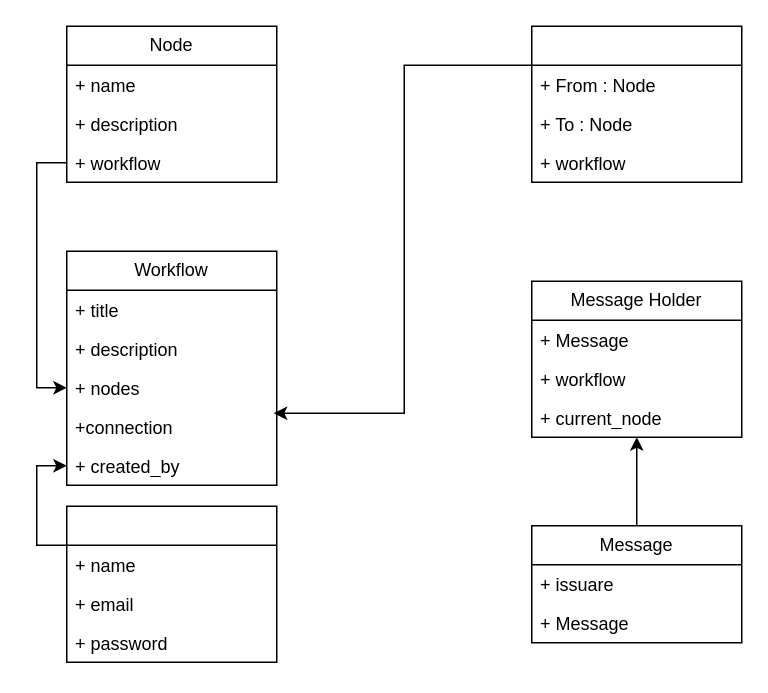
Some shapes in this 768 by 693 pixel diagram are drawn without their labels. Here are the shapes that lost their labels. From the top down, the box of each, then its label:
(530, 25, 742, 182): Connection
(65, 505, 277, 662): User
